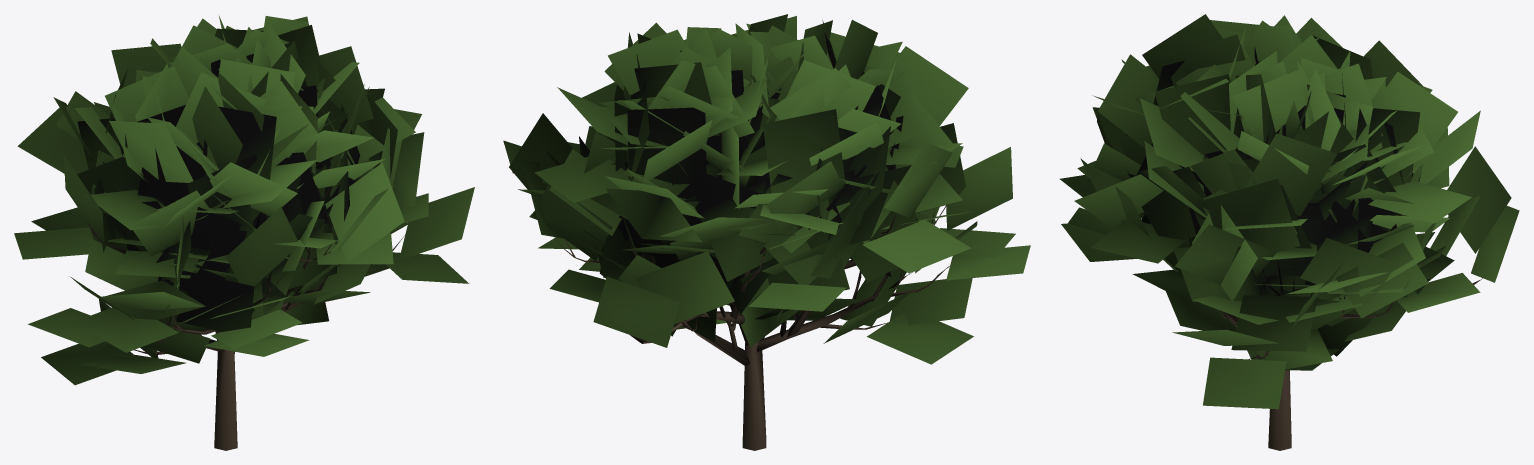
The model's file is oak.glb.
3 renders of one model, left to right at view 1: azimuth 30°, elevation 25°; view 2: azimuth 150°, elevation 25°; view 3: azimuth 270°, elevation 25°, orthographic. The views are drawn at different scales.
Parts seen in each view (by area): view 1: oak_leaves, oak_wood; view 2: oak_leaves, oak_wood; view 3: oak_leaves, oak_wood.
Boxes of the visible parts, x1=… form: oak_leaves: x1=14, y1=16, x2=474, y2=385; oak_wood: x1=85, y1=156, x2=404, y2=450; oak_leaves: x1=503, y1=14, x2=1030, y2=364; oak_wood: x1=554, y1=137, x2=949, y2=450; oak_leaves: x1=1060, y1=14, x2=1519, y2=409; oak_wood: x1=1141, y1=154, x2=1482, y2=450.
Size of the model in its own units: 17.18 by 14.61 by 15.04.
